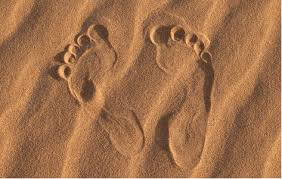human_foot_print: (32, 9, 244, 176)
